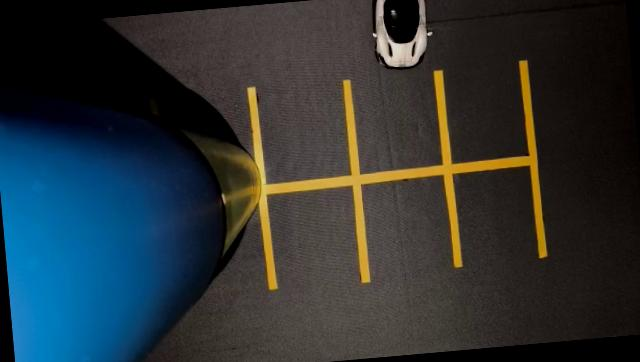toy_car: (330, 0, 453, 97)
